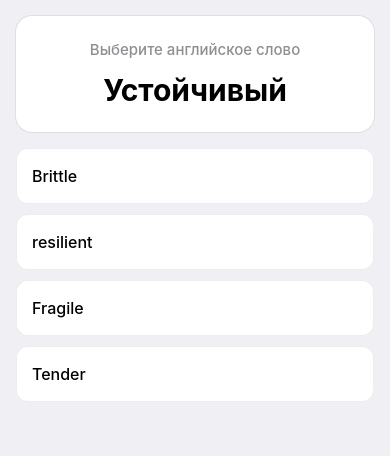
Test: ReverseCard › marks the right pick (case-insensitively), speaks the word, grades 4 at once and moves on after the pause
Click the button with test id "option-1" at (62, 242), box [16,214,374,270]
Wait 700 ms
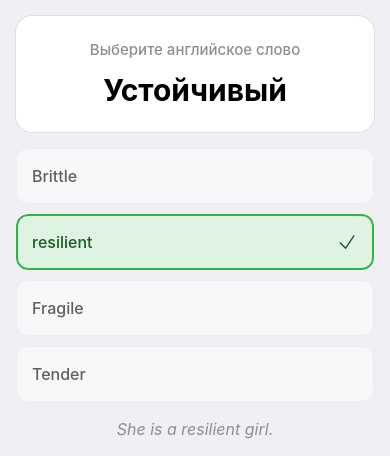
Now the text with test id "example" reads "She is a resilient girl.", box [117,419,273,439]
